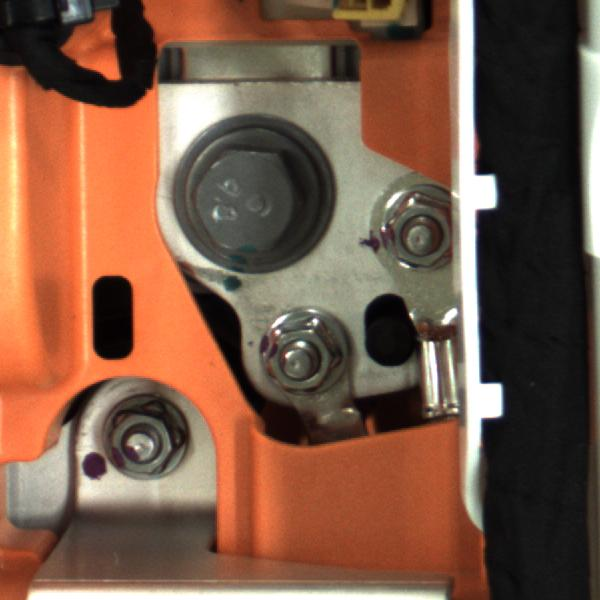nut_b: (182, 137, 319, 261)
screw_s: (94, 390, 191, 478), (258, 313, 350, 398), (375, 190, 452, 273)
